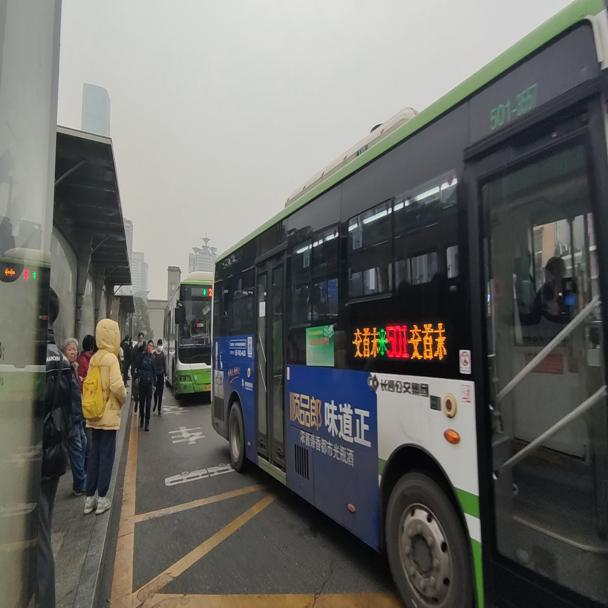bus: (162, 274, 214, 396)
screen: (386, 319, 406, 361)
